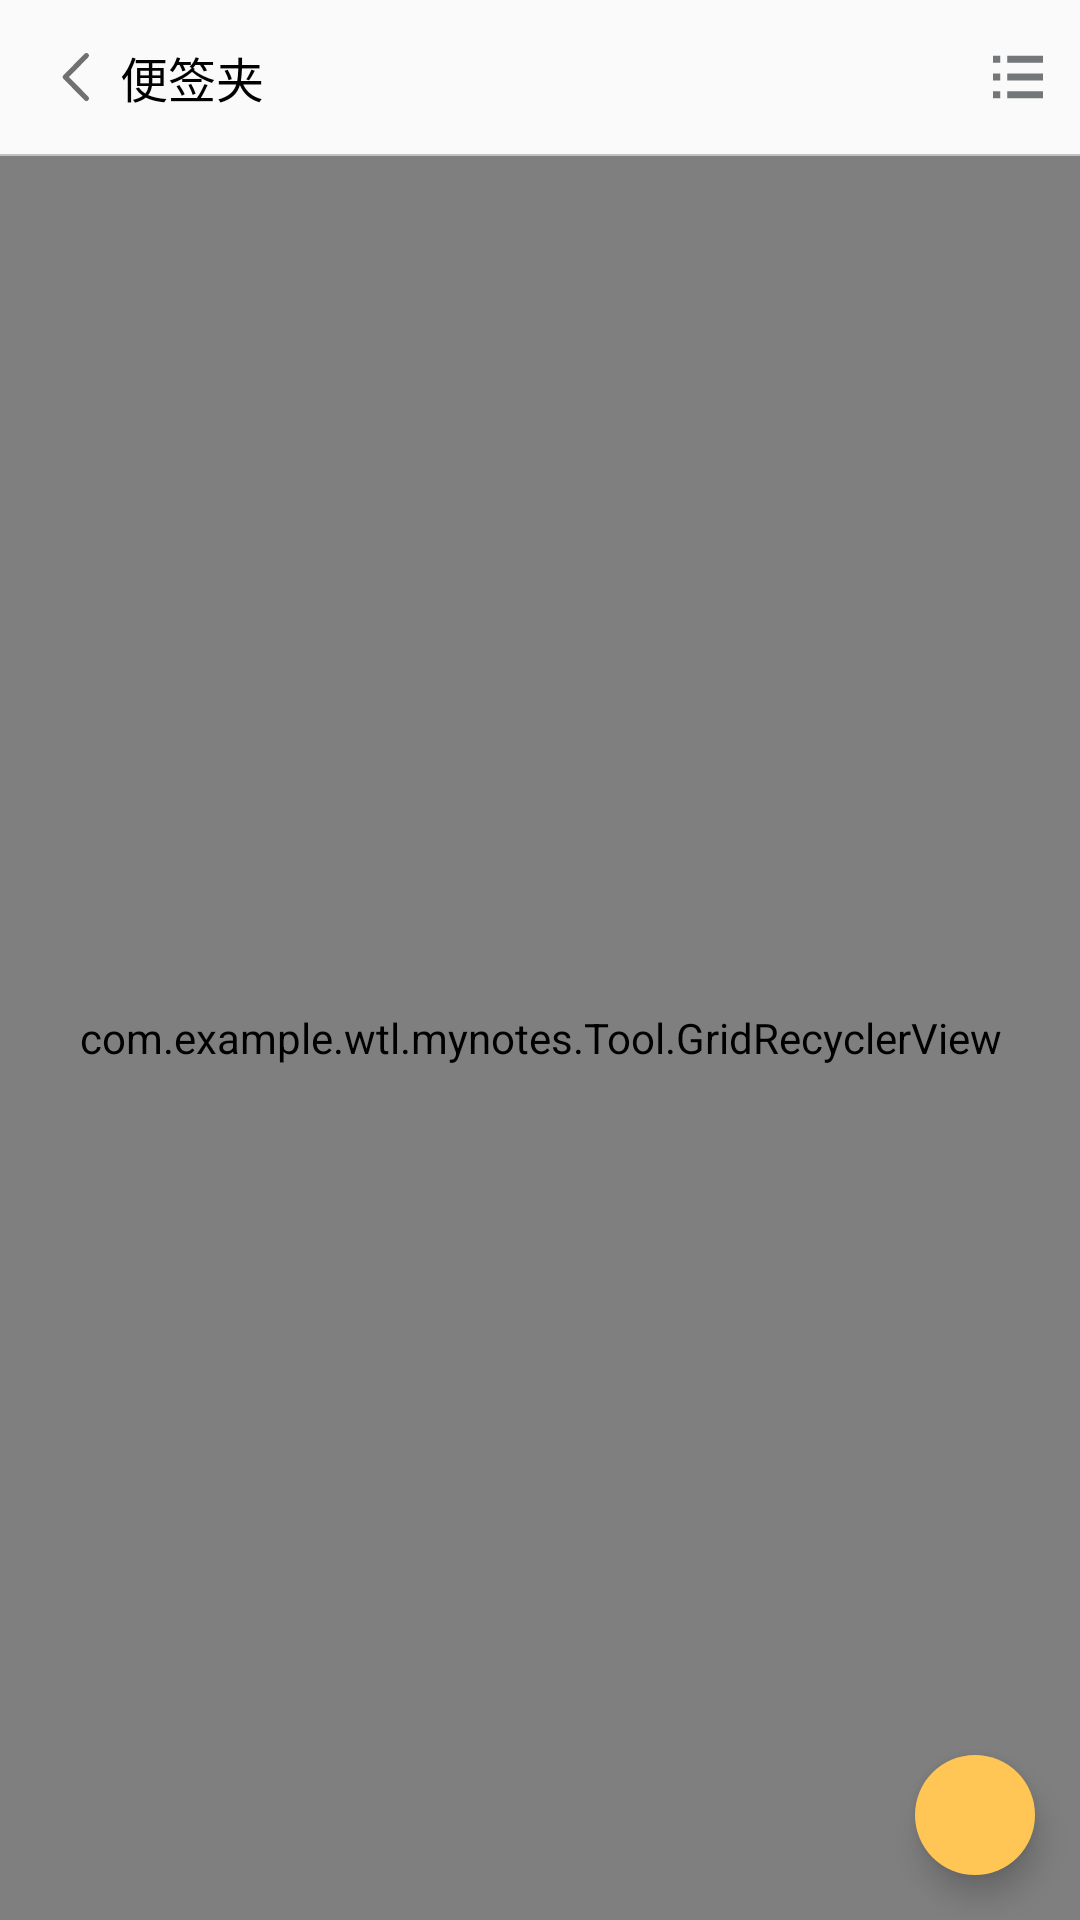

Where to tap for icons on this 1080 × 1920 app screen, as point (x, y):
back: point (75, 77)
listview: point (1018, 77)
